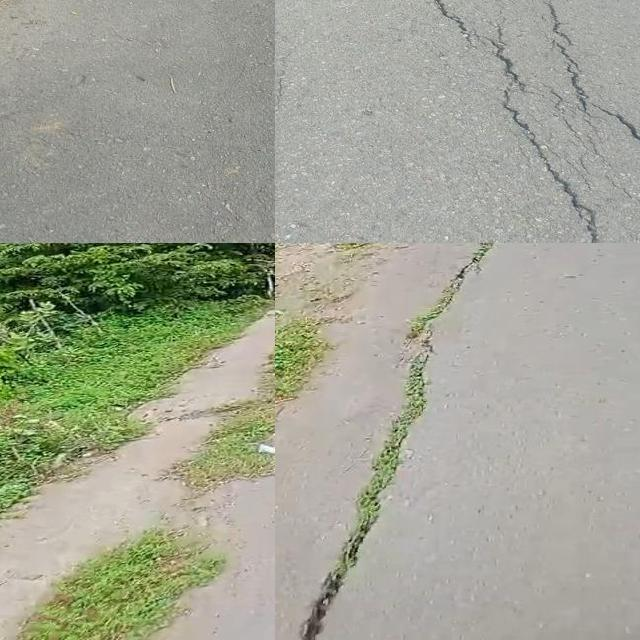Memanjang: (288, 243, 499, 640), (421, 0, 609, 243), (533, 9, 640, 159)
